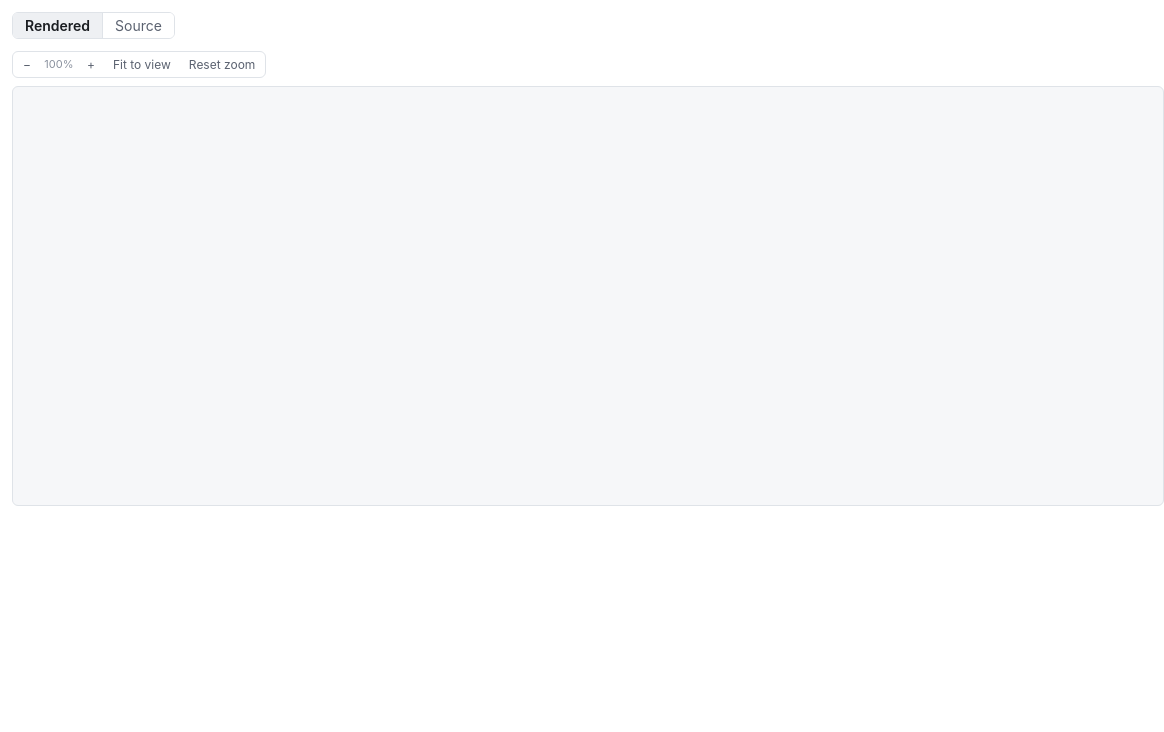
MermaidView › shows the raw source when the Source toggle is selected
Click the button "Source" at (139, 26), box [103, 13, 174, 38]
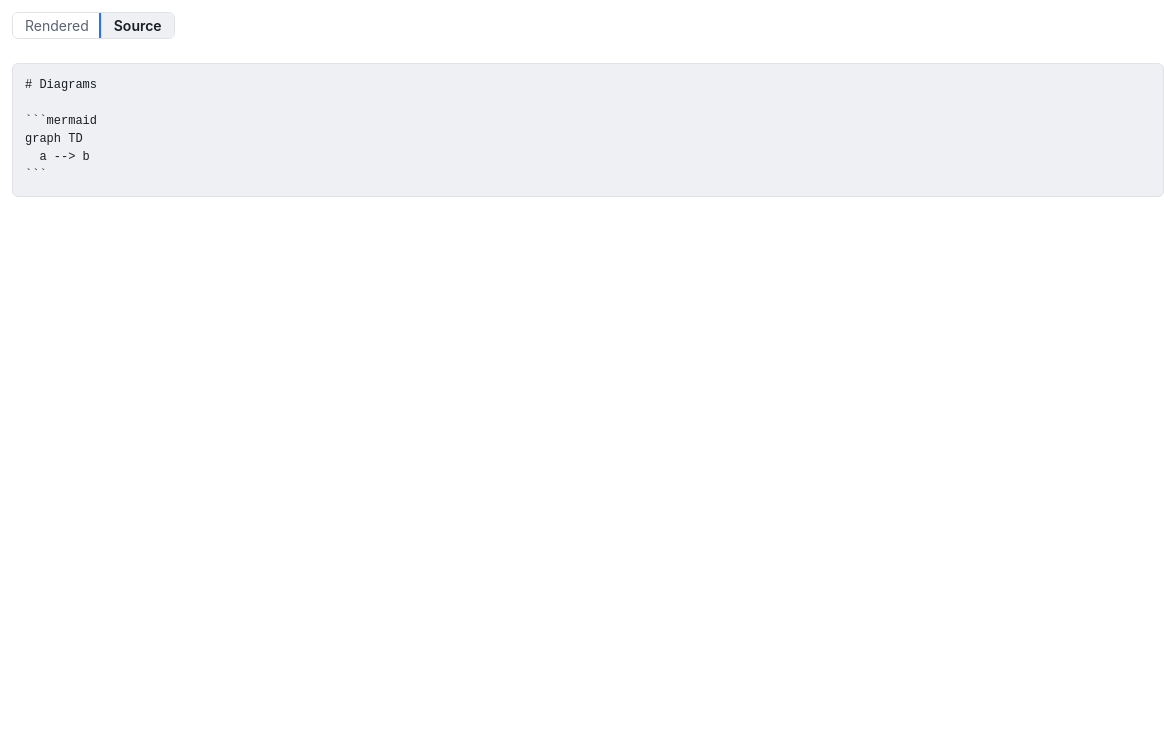
Result: the text "# Diagrams ```mermaid graph TD a --> b ```" is shown at [12, 63, 1163, 197]
